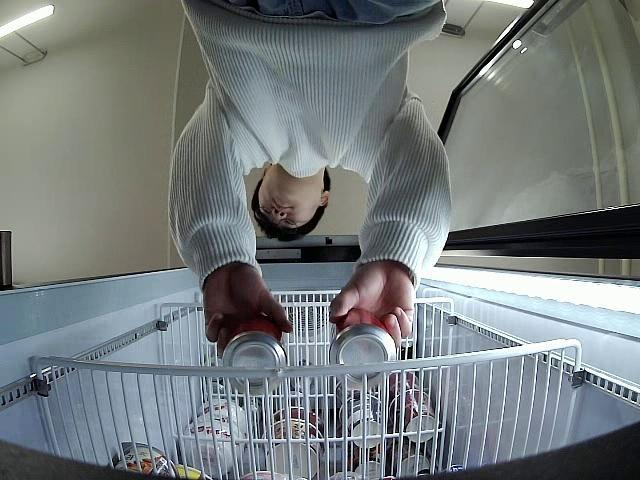11_cocaColaZero: (220, 310, 288, 398), (328, 308, 396, 388)
